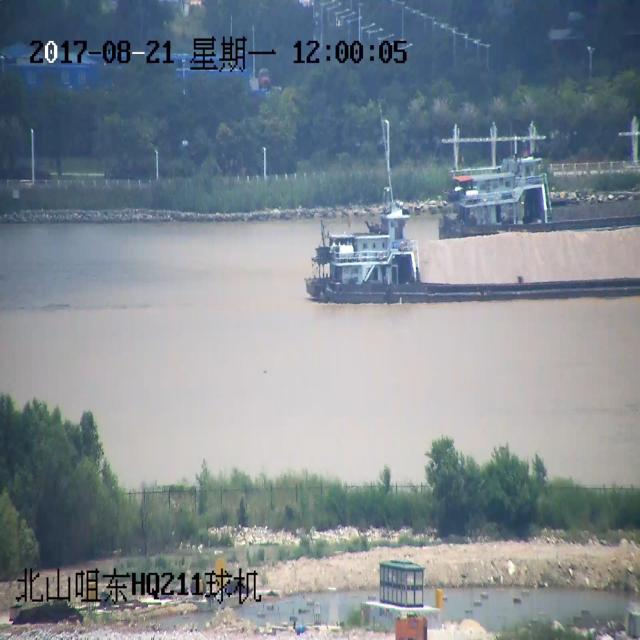cargoship: (325, 171, 636, 314), (429, 135, 633, 230)
